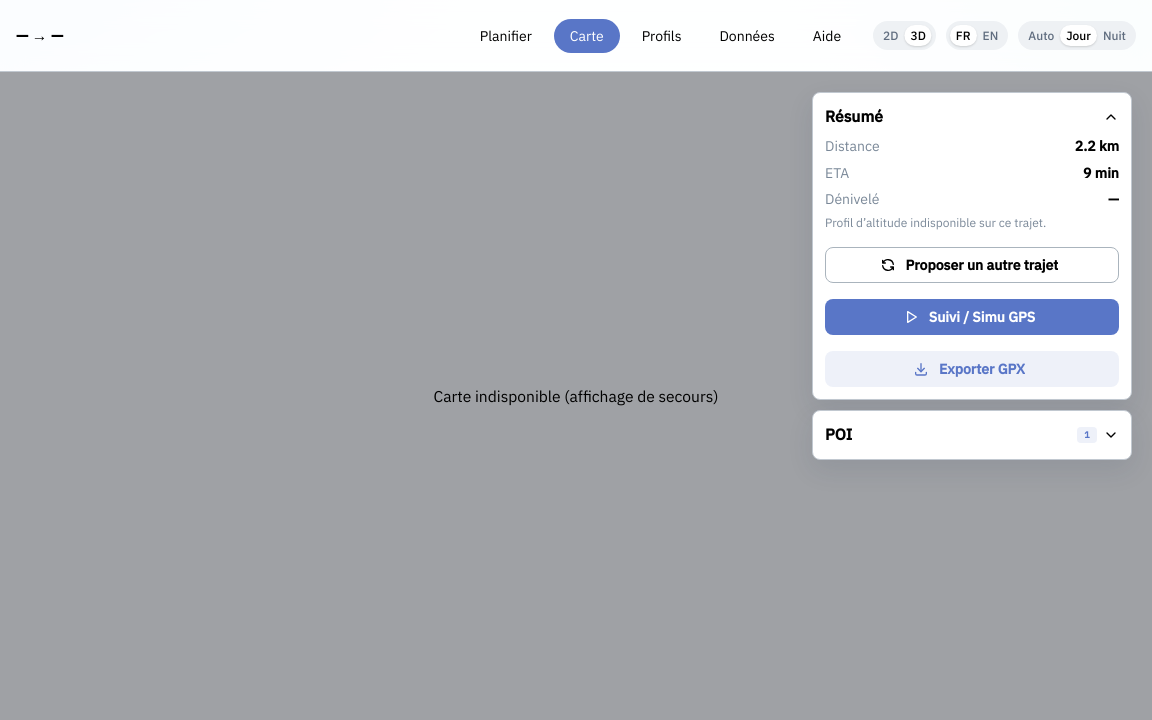
Test: App routing › deduplique les POI quasi-identiques dans la liste
Click the button with aria-label "Afficher le panneau".
click(839, 434)  # box x1=825 y1=424 x2=1119 y2=447
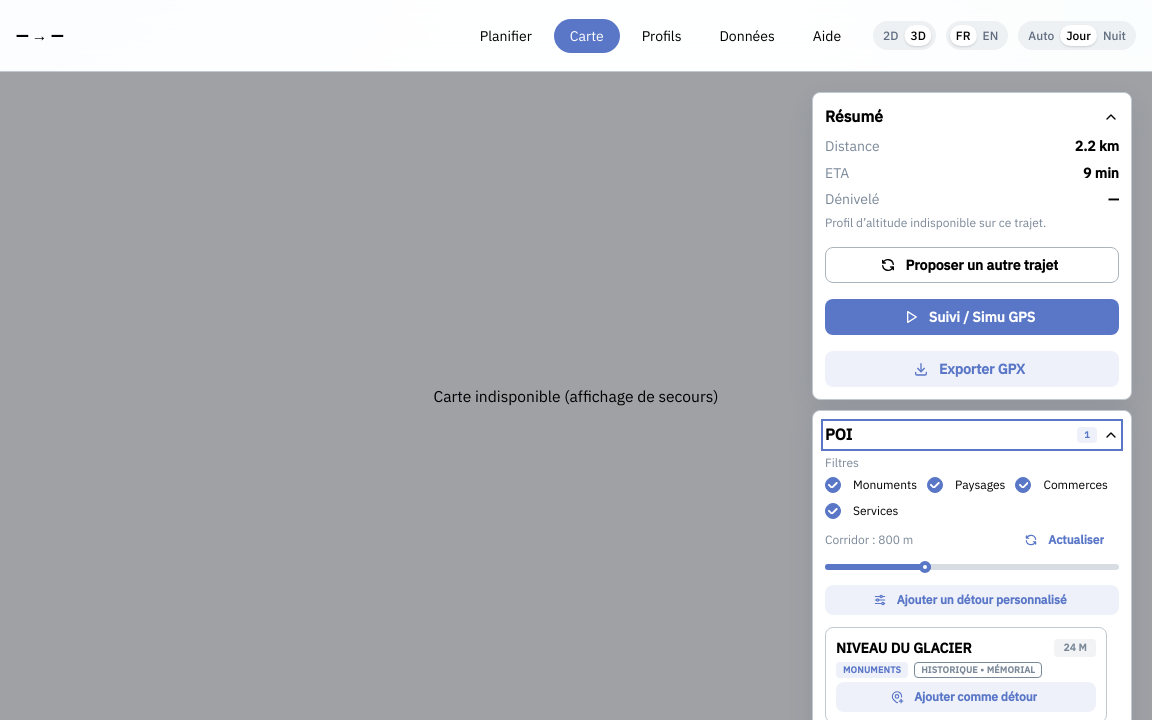
Expected: the text "NIVEAU DU GLACIER" is shown once, x1=836 y1=639 x2=972 y2=657
